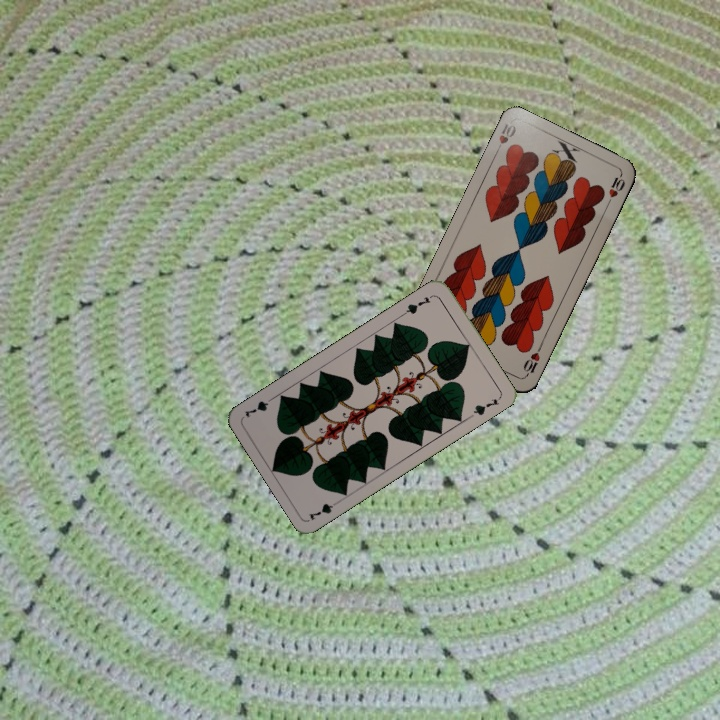G7: (305, 496, 343, 523), (400, 293, 433, 318)
H10: (491, 119, 519, 157), (519, 342, 544, 380)
